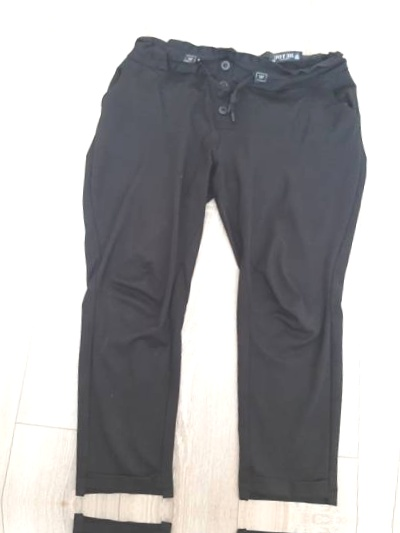Pants: (44, 24, 385, 504), (14, 521, 356, 533), (73, 0, 400, 9), (395, 45, 400, 525)
